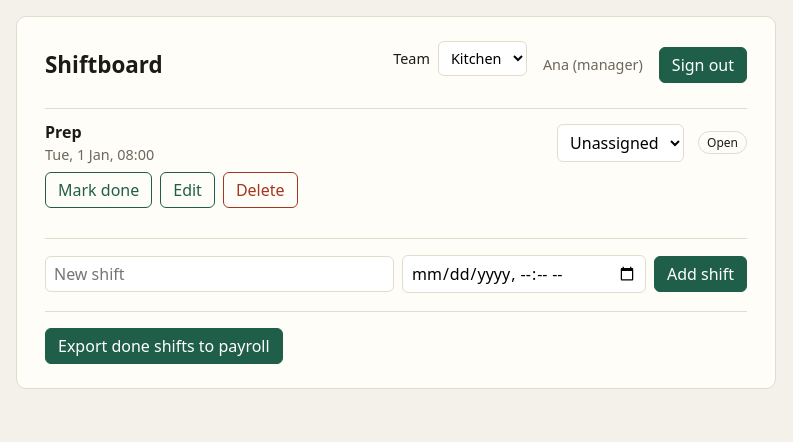
Test: shift list cache after a mutation › refetches after a 409 so the user sees the other person's version
Click the button "Mark done": [99, 190] box 45,172 -> 152,208
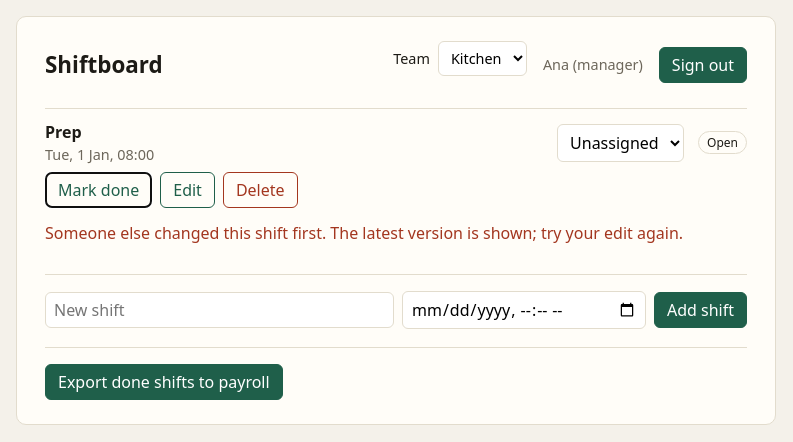
Now the message shows "Someone else changed this shift first", box 45,222 -> 683,244
